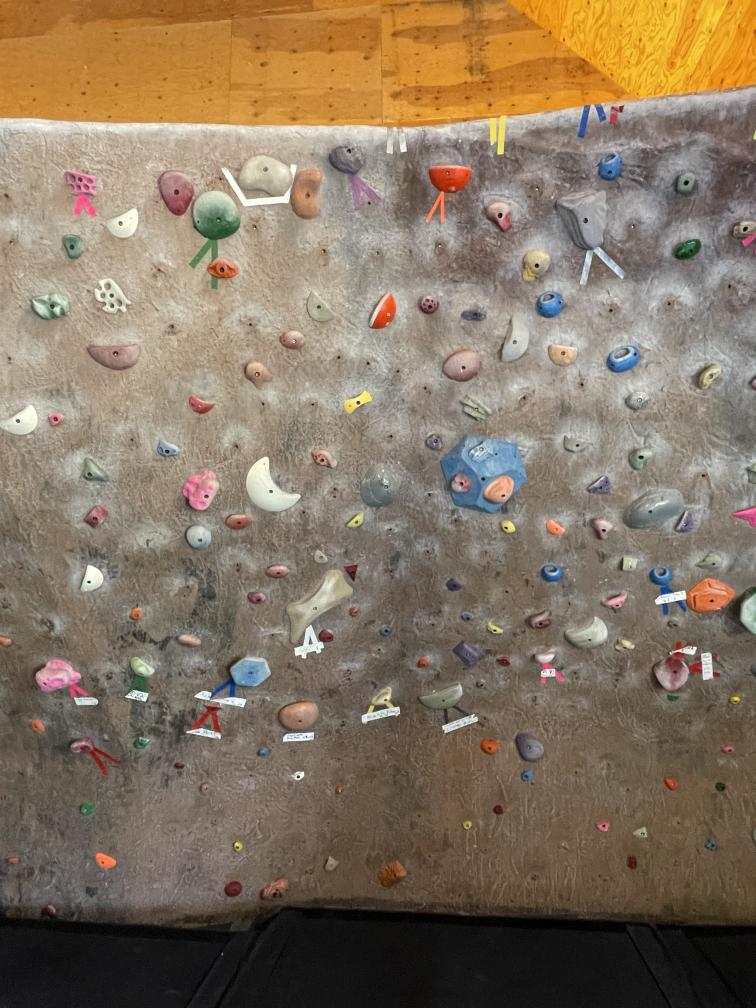Crimp: (244, 454, 304, 514), (498, 312, 530, 372), (564, 615, 606, 648), (418, 682, 465, 710), (304, 289, 336, 330), (0, 404, 38, 438), (105, 204, 139, 241), (184, 388, 218, 420), (546, 342, 584, 370), (206, 257, 240, 281), (459, 303, 491, 327), (468, 438, 496, 463), (588, 475, 614, 498), (545, 517, 569, 538), (485, 620, 506, 638), (314, 626, 335, 644), (345, 515, 366, 531), (201, 701, 225, 715), (314, 547, 328, 567)
Edges: (287, 569, 354, 647), (83, 339, 153, 375), (686, 578, 734, 614), (76, 564, 106, 594), (515, 767, 536, 782)
Foothold: (421, 429, 448, 457), (92, 848, 119, 874), (23, 713, 48, 740), (443, 574, 468, 599), (131, 732, 154, 755), (287, 768, 309, 791), (82, 882, 105, 904), (459, 608, 480, 631), (633, 823, 655, 844), (78, 797, 97, 821), (494, 522, 524, 536), (324, 852, 341, 876), (661, 772, 680, 792), (489, 798, 510, 816), (459, 816, 477, 835), (473, 677, 491, 696), (40, 899, 58, 917), (709, 779, 728, 795), (48, 411, 64, 430), (345, 560, 358, 582), (232, 839, 249, 855), (129, 607, 145, 623), (172, 758, 189, 773), (200, 781, 213, 800), (626, 854, 641, 870), (254, 745, 270, 759), (332, 784, 349, 797), (496, 656, 514, 668), (378, 625, 392, 640), (719, 744, 738, 755), (595, 820, 611, 833), (416, 656, 429, 670), (4, 854, 19, 866), (728, 695, 742, 706), (348, 606, 360, 618), (703, 839, 716, 848)
Jug: (194, 192, 247, 241), (178, 466, 226, 516), (226, 651, 276, 696), (156, 164, 196, 217), (289, 167, 327, 219), (365, 284, 401, 337), (423, 161, 477, 196), (278, 694, 323, 733), (438, 349, 488, 384), (483, 198, 521, 237), (622, 442, 661, 480), (36, 662, 79, 694), (241, 356, 275, 394), (518, 248, 553, 284), (526, 604, 562, 637), (78, 454, 111, 490), (650, 659, 689, 689), (512, 735, 551, 764), (671, 235, 703, 270), (54, 234, 96, 259), (672, 171, 705, 201), (171, 624, 203, 651), (183, 523, 215, 550), (623, 385, 651, 414), (601, 583, 630, 611), (312, 444, 338, 474), (66, 734, 98, 757), (589, 515, 614, 543), (280, 330, 308, 354), (158, 434, 183, 460), (533, 643, 559, 666), (267, 560, 292, 580), (227, 515, 255, 532), (448, 474, 470, 495), (614, 636, 635, 658), (732, 221, 756, 240)
Pinch: (26, 291, 82, 324), (91, 277, 133, 319), (687, 360, 730, 396), (459, 392, 498, 425), (63, 167, 102, 198), (558, 431, 594, 461), (341, 390, 377, 418), (83, 504, 112, 535), (366, 687, 399, 711), (692, 549, 724, 573), (127, 657, 157, 678), (454, 639, 479, 664), (620, 553, 639, 577)
Pocket: (600, 345, 643, 372), (595, 148, 627, 184), (535, 290, 565, 321), (538, 556, 566, 584), (647, 563, 676, 586)
Sloper: (553, 188, 617, 248), (235, 151, 294, 201), (618, 486, 685, 530), (357, 463, 408, 510), (330, 140, 368, 174), (374, 857, 412, 890), (258, 871, 290, 907), (482, 476, 516, 505), (418, 292, 442, 320), (220, 880, 250, 901), (242, 588, 270, 610), (479, 737, 504, 760)
